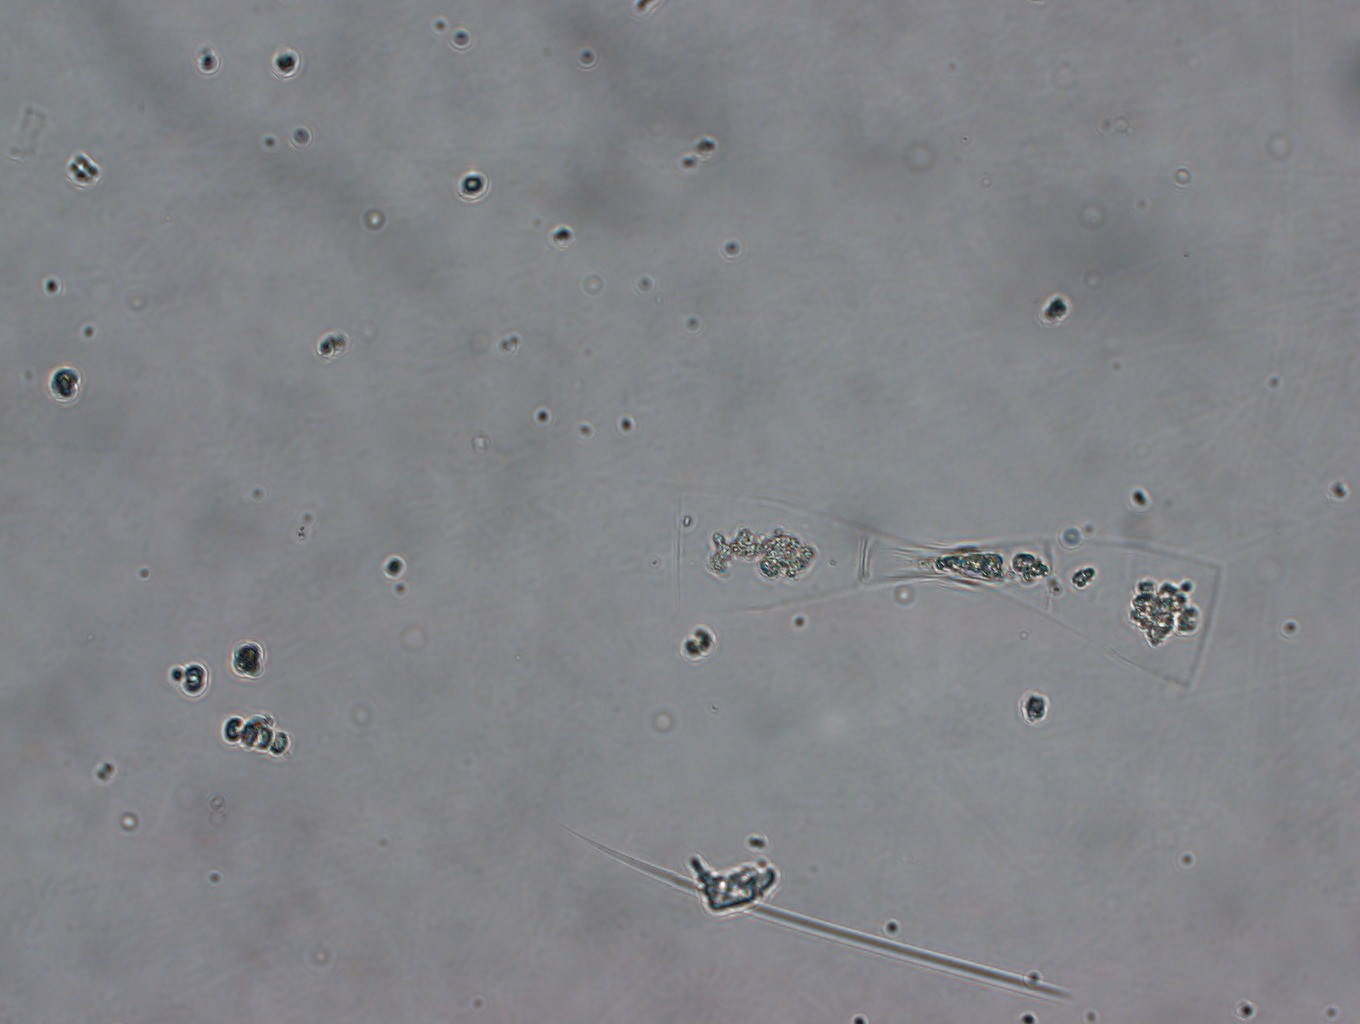helicotheca: (664, 460, 1231, 701)
